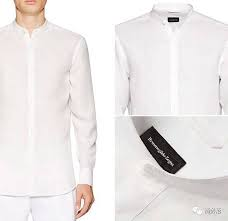C_shirt: (1, 18, 97, 198)
